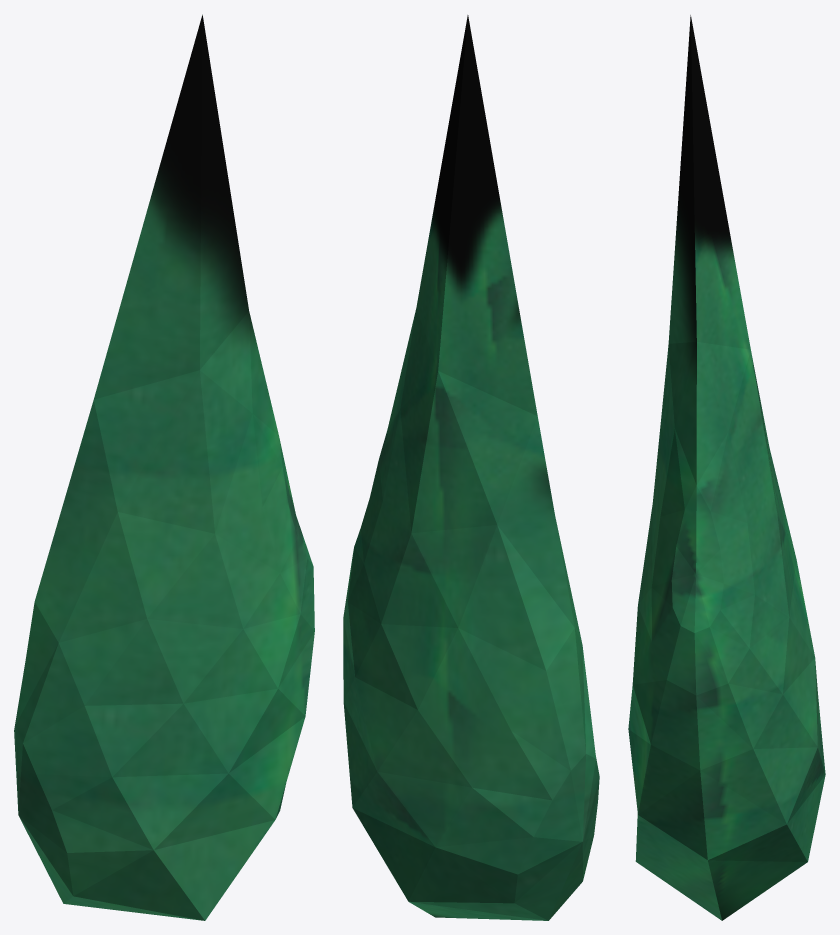
Rendered from spectral_arrow.obj.
The picture shows the model from 3 angles, left to right: view 1: azimuth 30°, elevation 25°; view 2: azimuth 150°, elevation 25°; view 3: azimuth 270°, elevation 25°; orthographic projection. The views are drawn at different scales.
Visible parts, largest first — view 1: Sphere_Sphere.002; view 2: Sphere_Sphere.002; view 3: Sphere_Sphere.002.
Part boxes in pixels (left/top/right/bottom): Sphere_Sphere.002: left=14, top=14, right=314, bottom=920; Sphere_Sphere.002: left=343, top=15, right=599, bottom=920; Sphere_Sphere.002: left=628, top=15, right=825, bottom=920.
Size of the model in its own units: 0.1741 by 0.5696 by 0.1133.
1 material, 1 textured.
